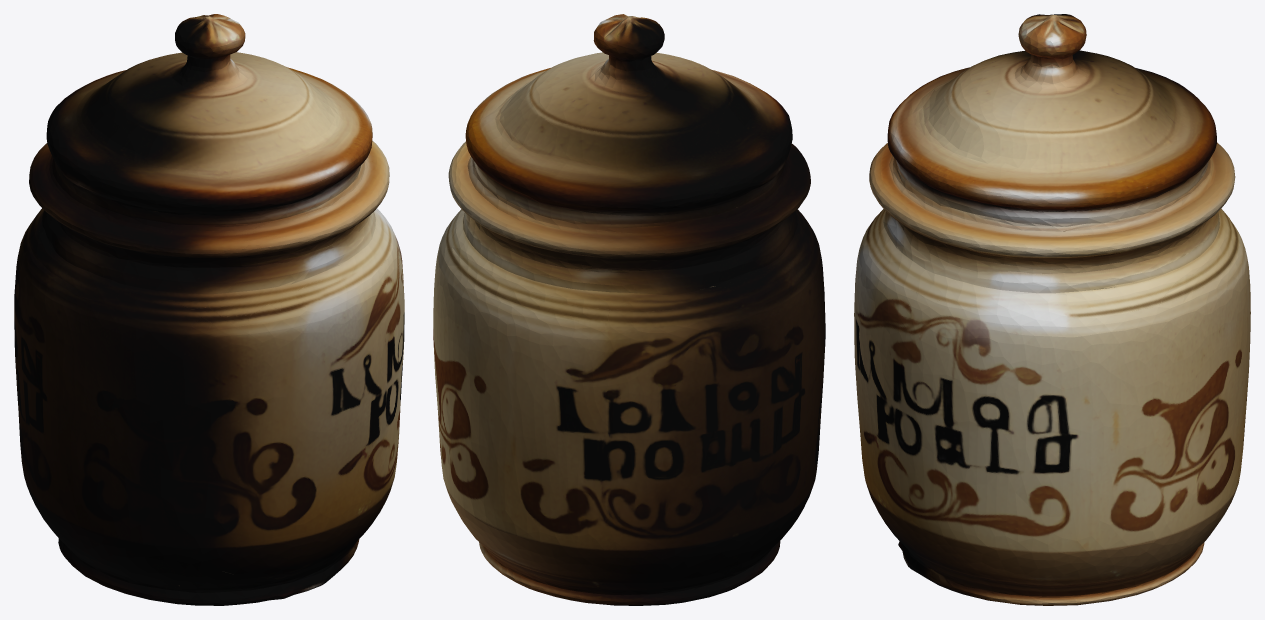
The model's file is ceramic-kitchen-canister-used-rustic-worn.jpeg.glb.
3 renders of one model, left to right at view 1: azimuth 30°, elevation 25°; view 2: azimuth 150°, elevation 25°; view 3: azimuth 270°, elevation 25°, orthographic.
Parts seen in each view (by area): view 1: world; view 2: world; view 3: world.
Boxes of the visible parts, x1,y1,x2,y2 form: world: (14,14,404,605); world: (433,14,825,605); world: (854,14,1250,605).
Bounding box in the file's own units: 0.6758 × 1 × 0.6773.
1 material, 1 textured.
